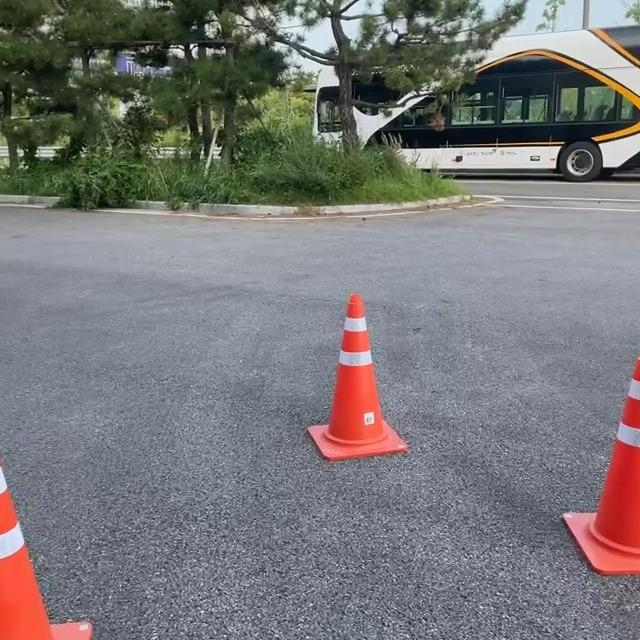fallen_object: (272, 282, 408, 480), (0, 439, 100, 640), (553, 336, 640, 564)
